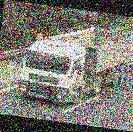truck: (17, 19, 133, 113)
